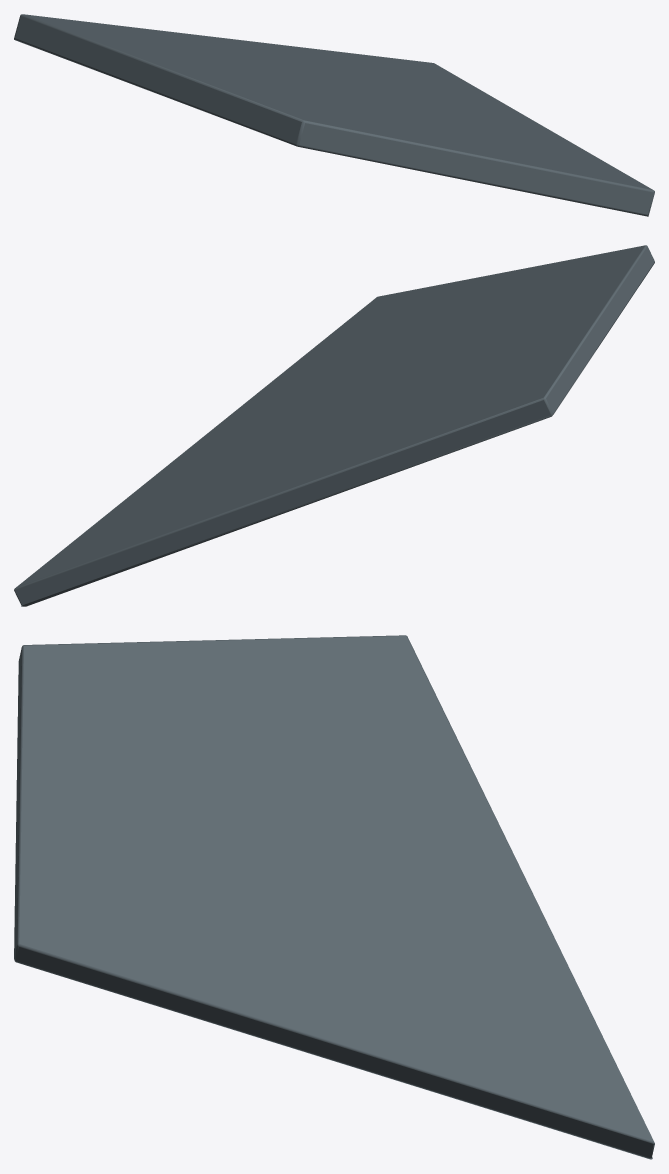
3 views of the same model, one above another, from view 1: azimuth 30°, elevation 25°; view 2: azimuth 150°, elevation 25°; view 3: azimuth 270°, elevation 25° (orthographic). The views are drawn at different scales.
Visible parts, largest first — view 1: Cube.006; view 2: Cube.006; view 3: Cube.006.
Boxes of the visible parts, x1,y1,x2,y2 form: Cube.006: (14, 14, 654, 216); Cube.006: (14, 245, 654, 606); Cube.006: (14, 635, 654, 1159).
Bounding box in the file's own units: 2.04 × 1.16 × 2.2.
1 material, 1 textured.
